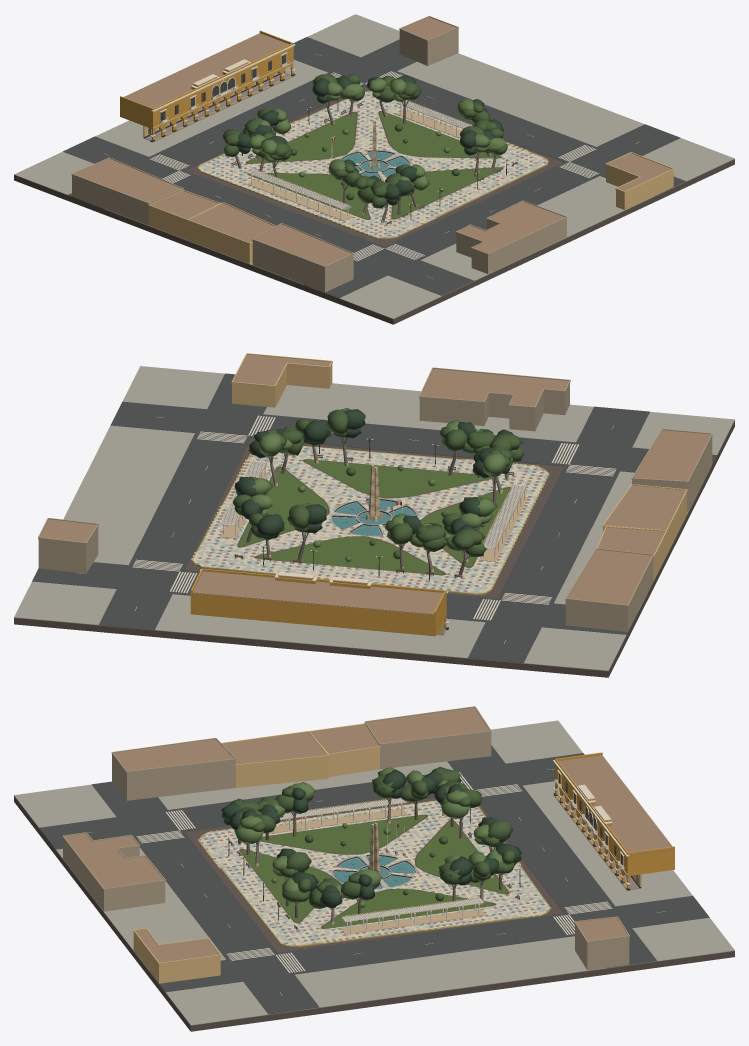
File: plaza-armas-ica.glb
3 views of the same model, one above another, from view 1: azimuth 30°, elevation 25°; view 2: azimuth 150°, elevation 25°; view 3: azimuth 270°, elevation 25° (orthographic). The views are drawn at different scales.
Parts seen in each view (by area): view 1: road, paver (×2), roof (×2), stucco, lawn, foundation, paverCream, cream (×2), leaf, paverBlue, yellow, leafTip (+13 smaller); view 2: paver (×2), road, roof (×2), stucco, paverCream, lawn, foundation, yellow, leaf, paverBlue, leafShade, cream (+11 smaller); view 3: road, paver (×2), roof (×2), stucco, lawn, paverCream, foundation, leaf, cream, paverBlue, leafShade, leafTip (+13 smaller).
Part boxes in pixels (bbox=[...]): road: bbox=[63, 37, 685, 298]; paver (×2): bbox=[14, 14, 734, 319]; roof (×2): bbox=[73, 17, 671, 265]; stucco: bbox=[71, 16, 567, 292]; lawn: bbox=[248, 112, 500, 218]; foundation: bbox=[14, 86, 734, 324]; paverCream: bbox=[199, 91, 548, 237]; cream (×2): bbox=[143, 54, 674, 263]; leaf: bbox=[222, 74, 507, 208]; paverBlue: bbox=[200, 92, 547, 237]; yellow: bbox=[120, 30, 293, 140]; leafTip: bbox=[248, 77, 505, 196]; paver (×2): bbox=[14, 366, 734, 671]; road: bbox=[32, 373, 716, 662]; roof (×2): bbox=[40, 354, 710, 614]; stucco: bbox=[38, 367, 712, 631]; paverCream: bbox=[191, 446, 547, 592]; lawn: bbox=[239, 460, 509, 574]; foundation: bbox=[14, 420, 734, 677]; yellow: bbox=[190, 568, 446, 636]; leaf: bbox=[233, 409, 524, 559]; paverBlue: bbox=[198, 446, 549, 593]; leafShade: bbox=[234, 409, 513, 540]; cream: bbox=[231, 353, 687, 580]; road: bbox=[39, 745, 709, 1014]; paver (×2): bbox=[14, 720, 734, 1025]; roof (×2): bbox=[64, 707, 674, 962]; stucco: bbox=[62, 706, 629, 970]; lawn: bbox=[241, 815, 507, 927]; paverCream: bbox=[198, 801, 550, 945]; foundation: bbox=[14, 796, 734, 1031]; leaf: bbox=[230, 767, 515, 908]; cream: bbox=[133, 723, 380, 983]; paverBlue: bbox=[200, 801, 549, 945]; leafShade: bbox=[221, 769, 521, 908]; leafTip: bbox=[234, 767, 502, 908].
Size of the model in its own units: 171 by 16.32 by 171.
